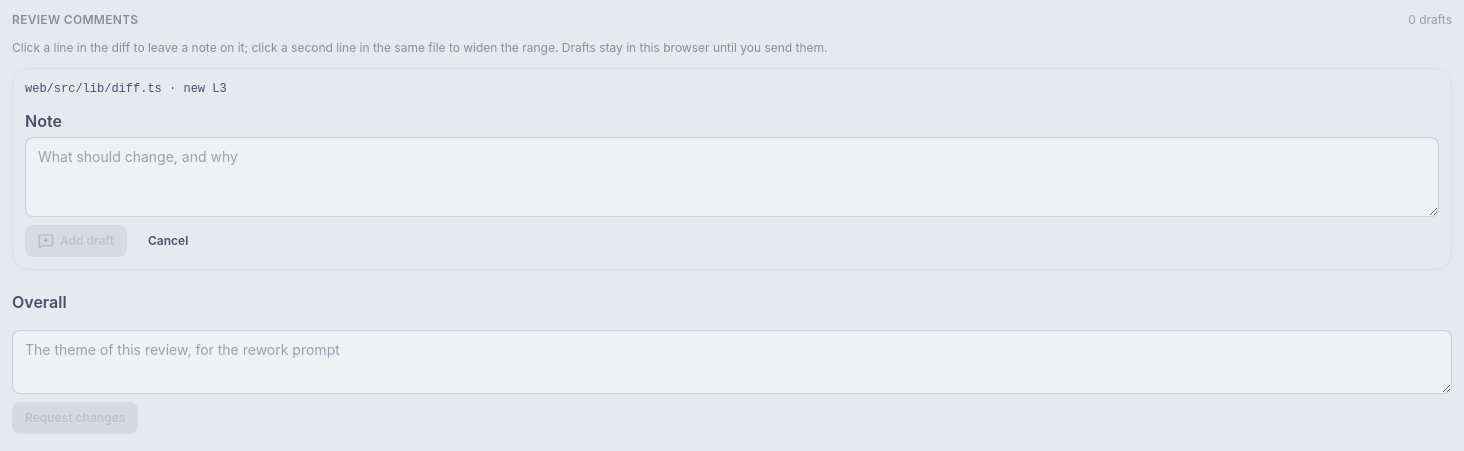
Scenario: CommentThreads › drafts › counts drafts in the singular for one
Expected: the text "0 drafts" is shown, top-left (1408, 12), bottom-right (1452, 28)
Type "Name this constant." into the text box labelled "Note" at (732, 177), box top-left (25, 137), bottom-right (1439, 217)
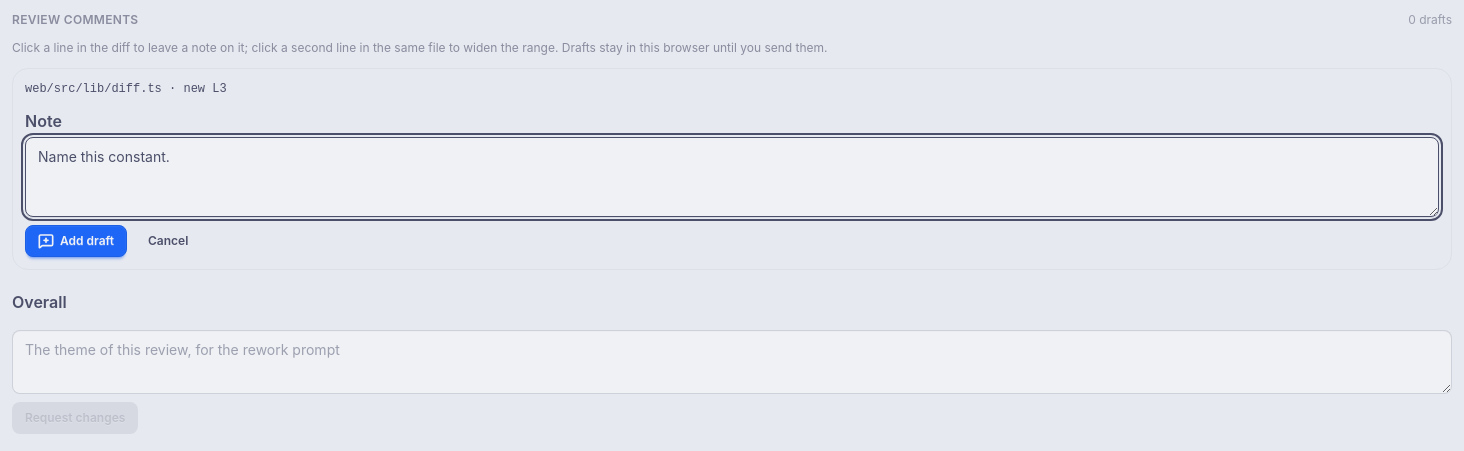
Click the button "Add draft" at (76, 241), box top-left (25, 225), bottom-right (127, 257)
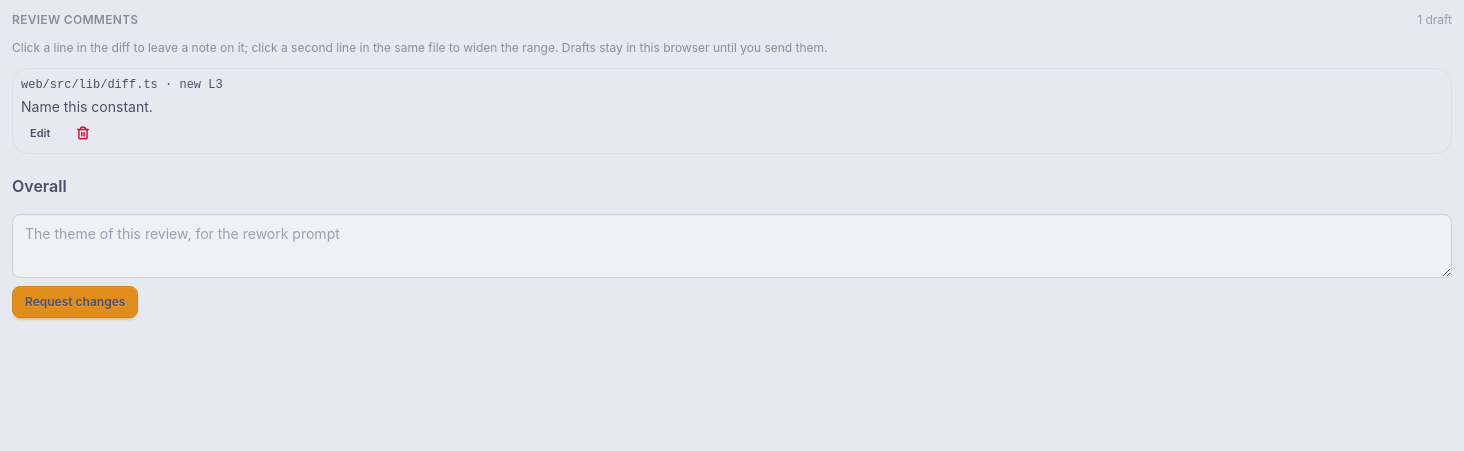
Now the text "1 draft" is shown, box top-left (1417, 12), bottom-right (1452, 28)
